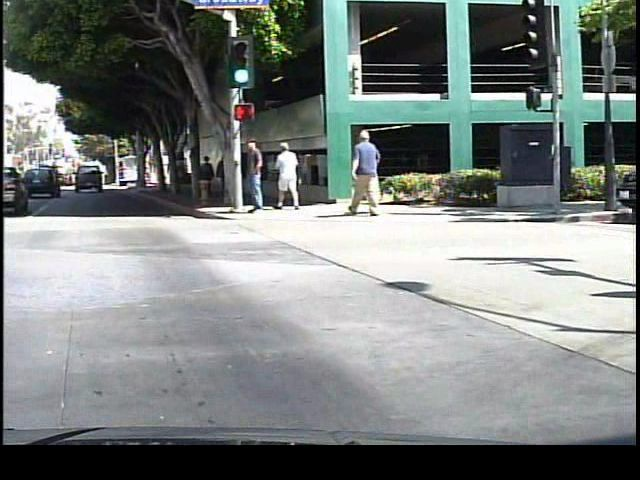person: (344, 126, 386, 216), (238, 134, 268, 221), (272, 139, 303, 213), (198, 152, 214, 200)
